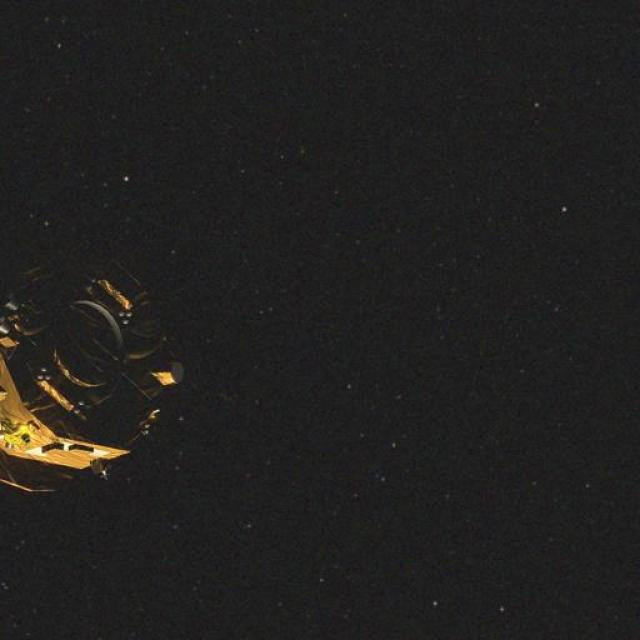lisa_pathfinder: (0, 228, 211, 536)
